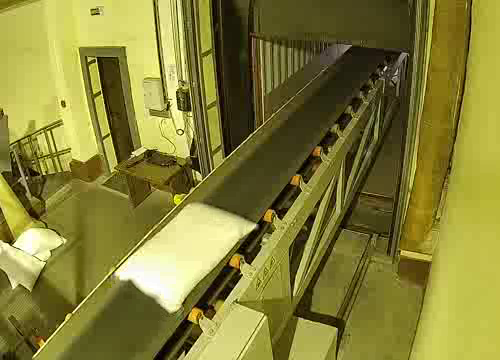bag: (115, 197, 256, 314)
